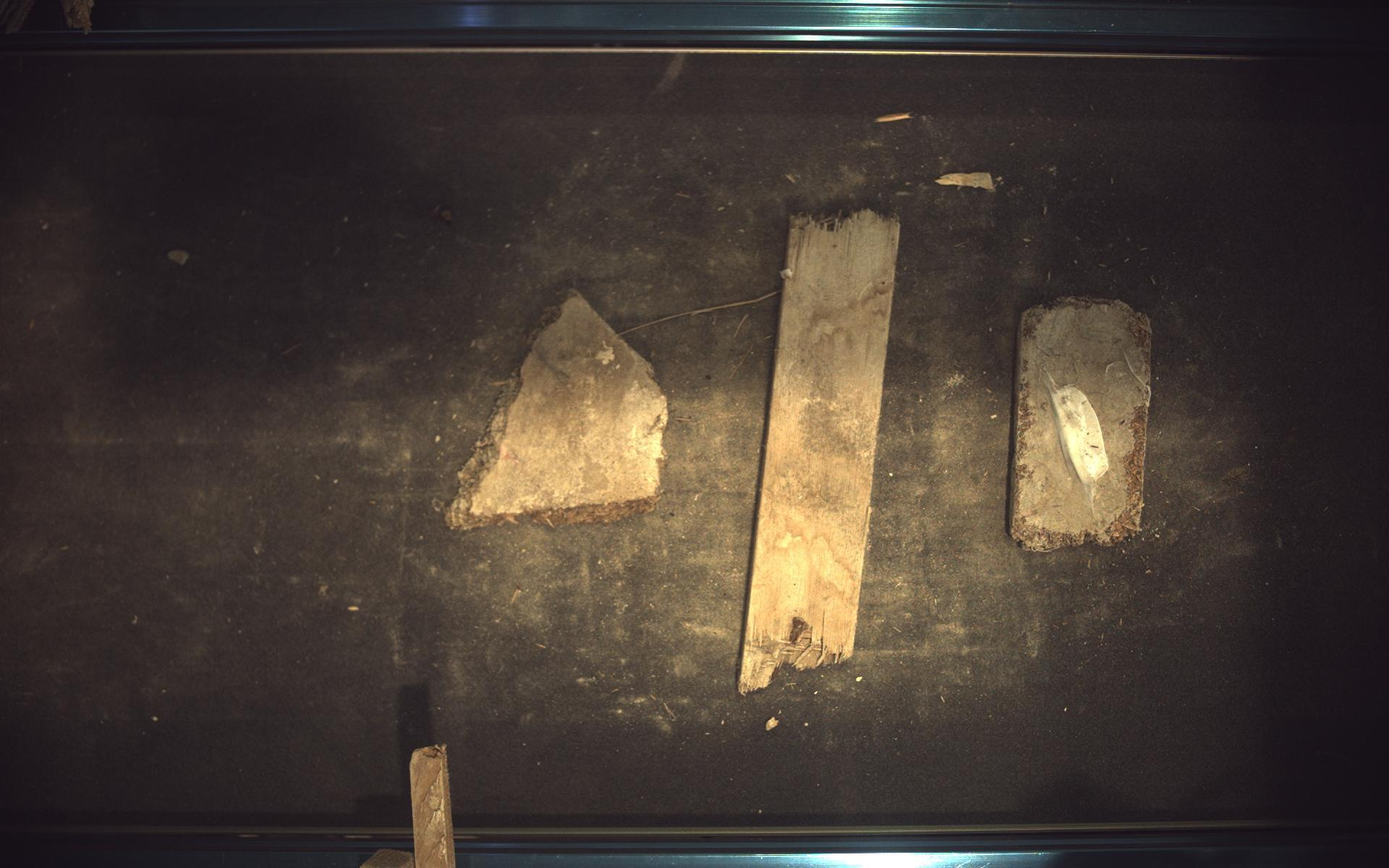wood: (739, 209, 901, 694), (446, 292, 668, 529), (1011, 297, 1154, 552), (938, 171, 998, 190)
